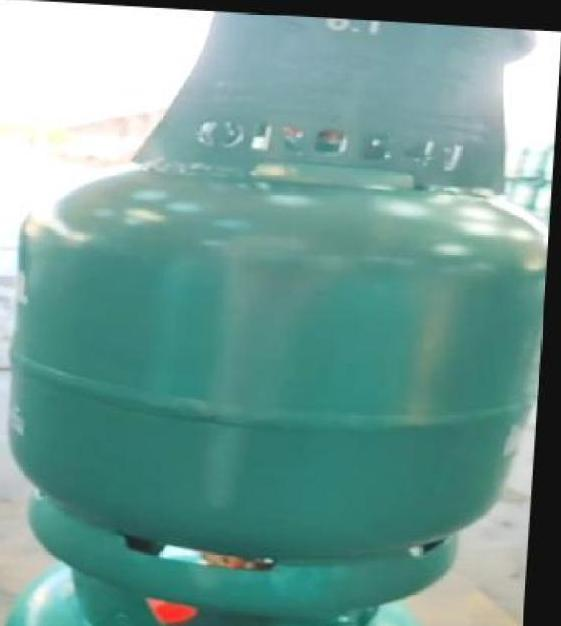cylinder: (1, 0, 561, 626)
